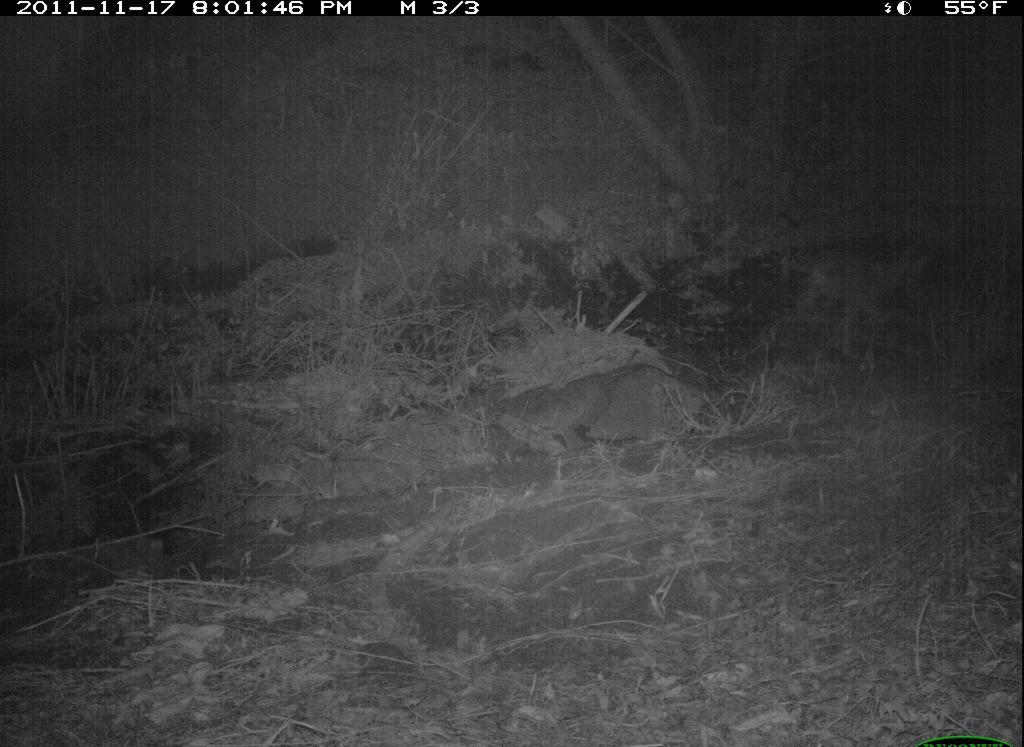coyote: (775, 233, 940, 370)
